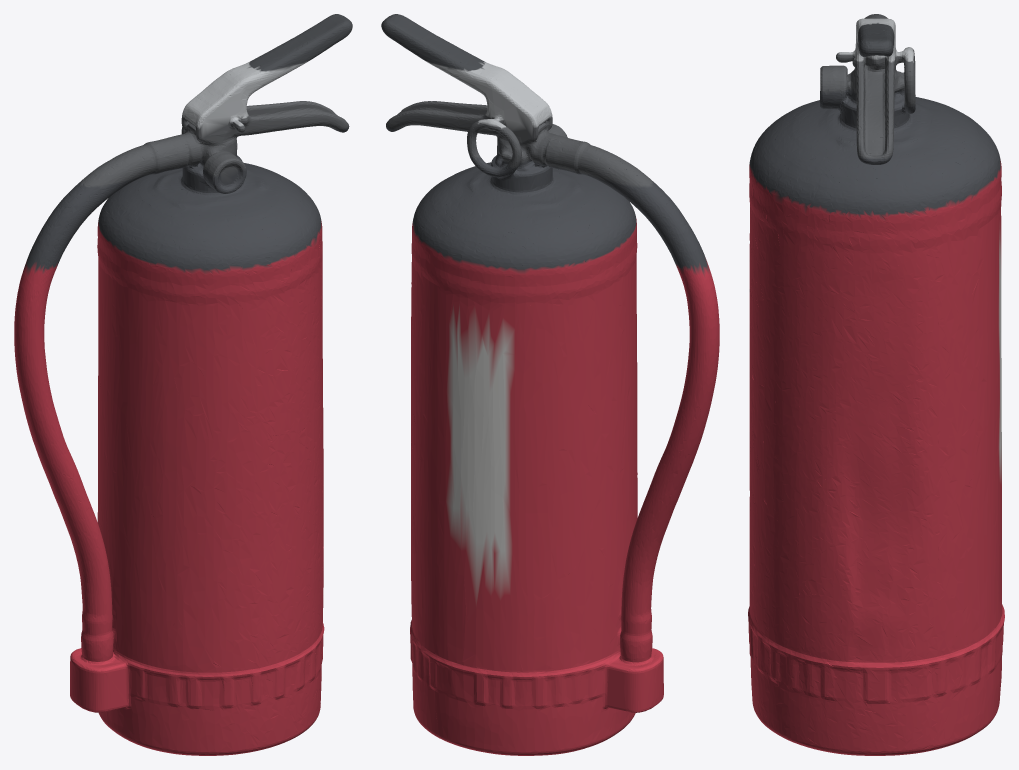
Rendered from fire-extinguisher-coloured.glb.
3 views of the same model, side by side, from view 1: azimuth 30°, elevation 25°; view 2: azimuth 150°, elevation 25°; view 3: azimuth 270°, elevation 25° (orthographic). The views are drawn at different scales.
Parts seen in each view (by area): view 1: geometry_0; view 2: geometry_0; view 3: geometry_0.
Part boxes in pixels (<box>): geometry_0: <box>14,14,352,755</box>; geometry_0: <box>381,14,719,755</box>; geometry_0: <box>748,14,1004,755</box>.
Size of the model in its own units: 1.05 by 1.99 by 0.6289.
